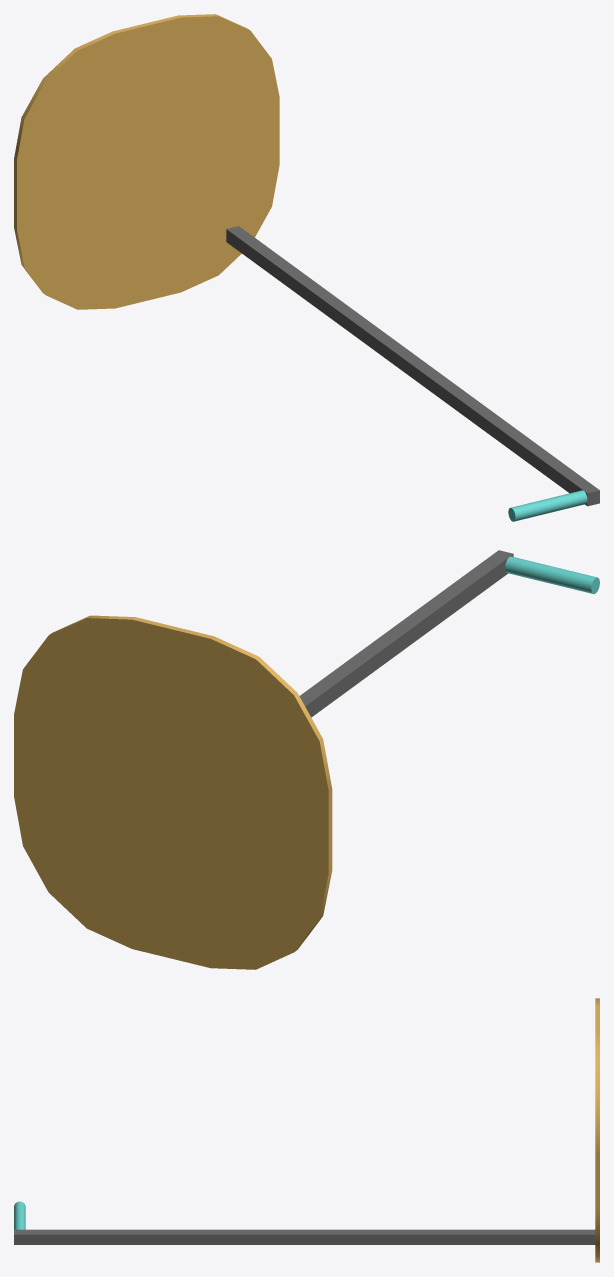
Rendered from Base upper.gltf.
3 views of the same model, one above another, from view 1: azimuth 30°, elevation 25°; view 2: azimuth 150°, elevation 25°; view 3: azimuth 270°, elevation 25° (orthographic). The views are drawn at different scales.
Parts seen in each view (by area): view 1: mesh21, mesh19, mesh17, mesh13, mesh27; view 2: mesh23, mesh19, mesh17, mesh13, mesh27; view 3: mesh20, mesh17, mesh25.
Boxes of the visible parts, x1,y1,x2,y2 form: mesh21: (17, 16, 279, 309); mesh19: (226, 229, 582, 493); mesh17: (227, 226, 599, 493); mesh13: (511, 490, 587, 521); mesh27: (14, 31, 114, 160); mesh23: (14, 618, 328, 969); mesh19: (305, 557, 508, 717); mesh17: (299, 550, 513, 706); mesh13: (505, 556, 596, 593); mesh27: (211, 636, 331, 790); mesh20: (14, 1234, 595, 1244); mesh17: (14, 1229, 595, 1234); mesh25: (595, 1032, 599, 1154).
Size of the model in its own units: 0.42 by 0.42 by 1.01.
